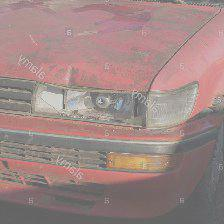head_lamp: (46, 87, 156, 125)
